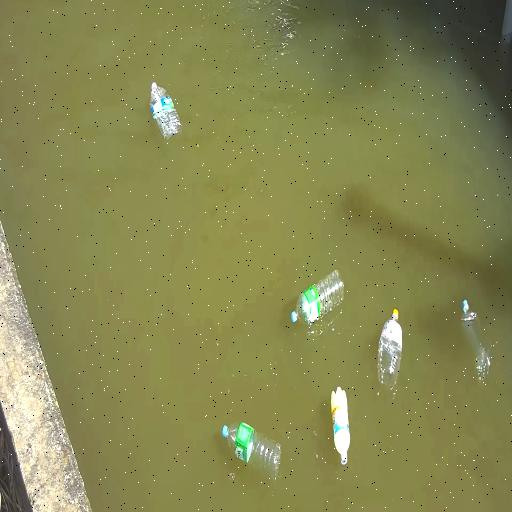plastic: (222, 423, 279, 478), (291, 270, 342, 324), (461, 300, 489, 381), (378, 309, 402, 389), (150, 82, 182, 140), (330, 387, 349, 465)
